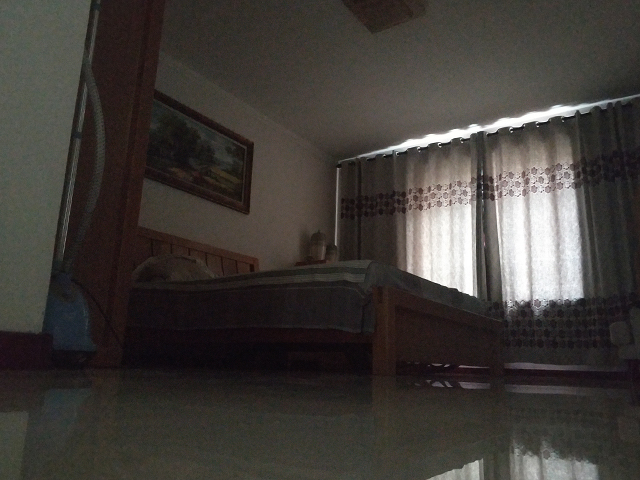bed: (128, 224, 508, 376)
cabinet: (45, 1, 167, 371)
curtain: (483, 97, 640, 369)
